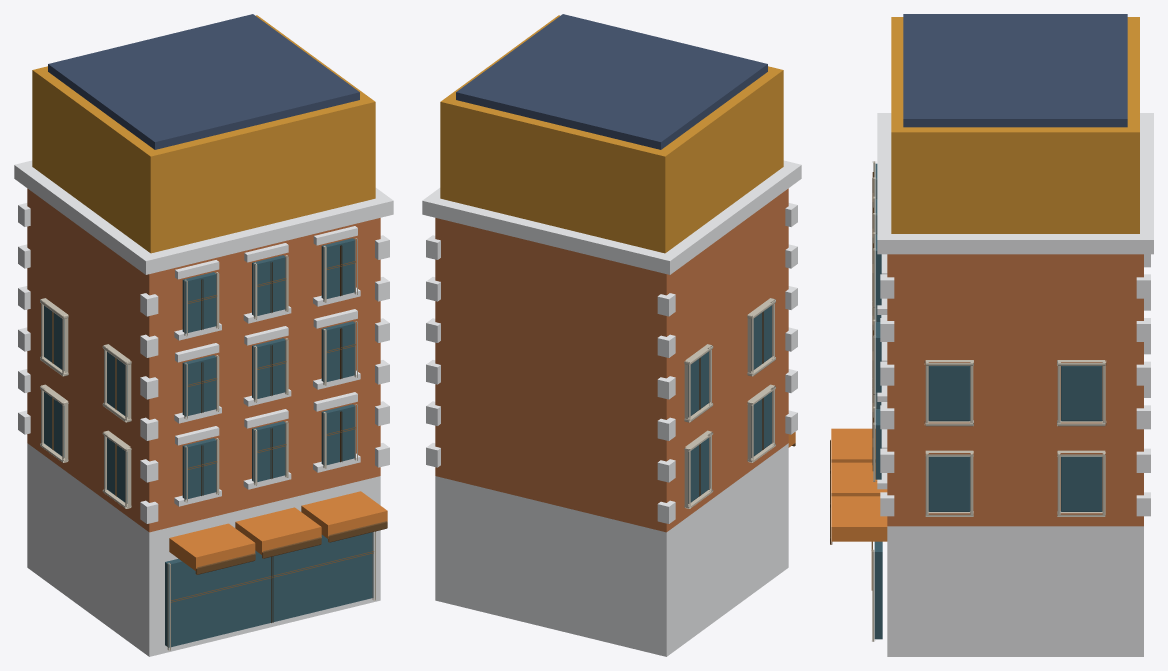
Rendered from city_runtime_02.glb.
3 views of the same model, side by side, from view 1: azimuth 30°, elevation 25°; view 2: azimuth 150°, elevation 25°; view 3: azimuth 270°, elevation 25° (orthographic). The views are drawn at different scales.
Parts seen in each view (by area): view 1: Exterior architecture detail 2; view 2: Exterior architecture detail 2; view 3: Exterior architecture detail 2.
Part boxes in pixels (bbox=[...]): Exterior architecture detail 2: bbox=[14, 14, 393, 656]; Exterior architecture detail 2: bbox=[422, 14, 801, 656]; Exterior architecture detail 2: bbox=[830, 14, 1153, 656].
Bounding box in the file's own units: 7.5 × 14.62 × 8.08.
